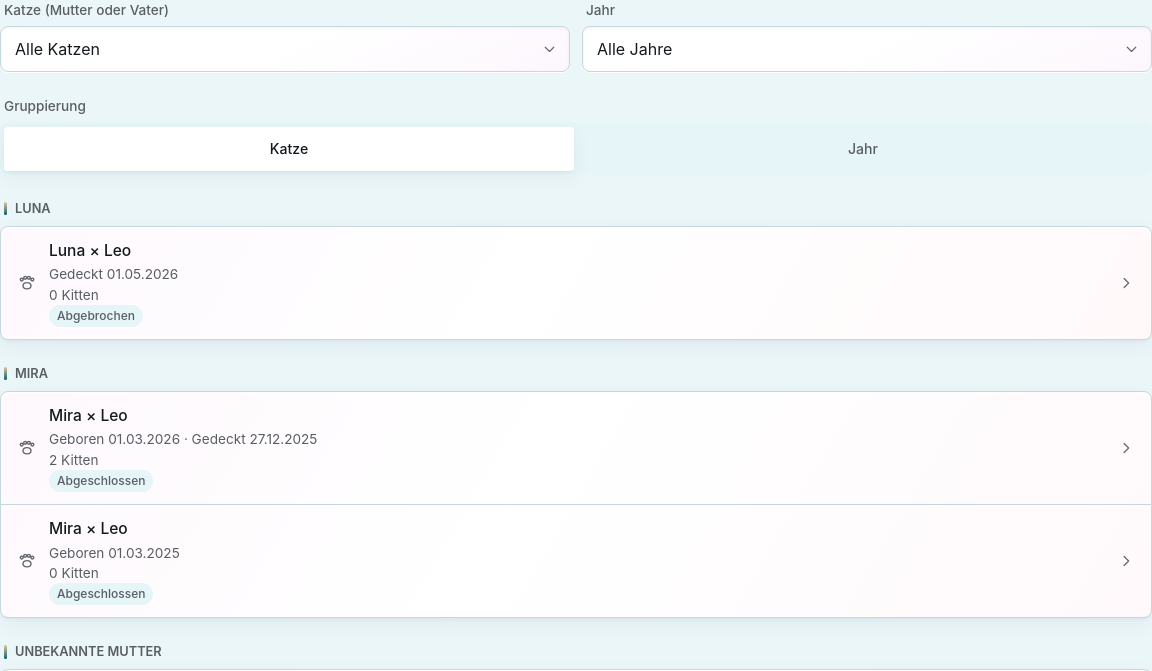
Test: LitterArchive › makes missing mothers and dates filterable and shows a no-results state
Select "Unbekannte Mutter" in the dropdown labelled "Katze (Mutter oder Vater)": (285, 49) x1=0 y1=26 x2=570 y2=72
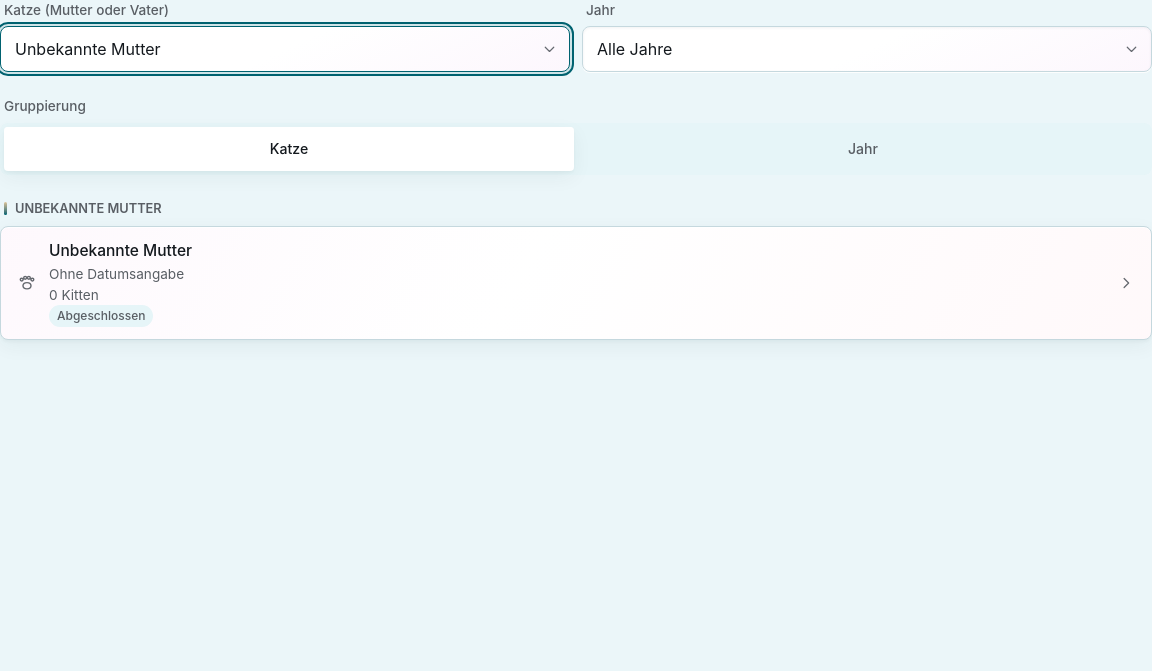
Select "Ohne Jahresangabe" in the dropdown labelled "Jahr": (867, 49) x1=582 y1=26 x2=1151 y2=72
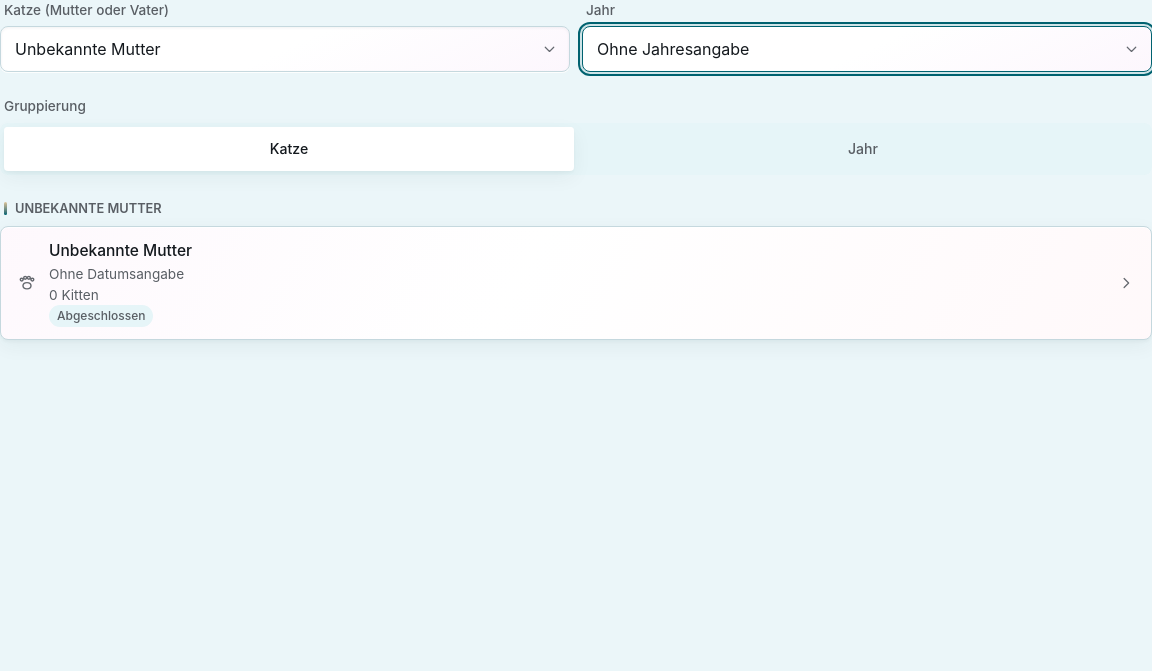
Expected: the button "Unbekannte Mutter Ohne Datumsangabe 0 Kitten Abgeschlossen" is shown, x1=1 y1=227 x2=1151 y2=339
Select "2026" in the dropdown labelled "Jahr": (867, 49) x1=582 y1=26 x2=1151 y2=72
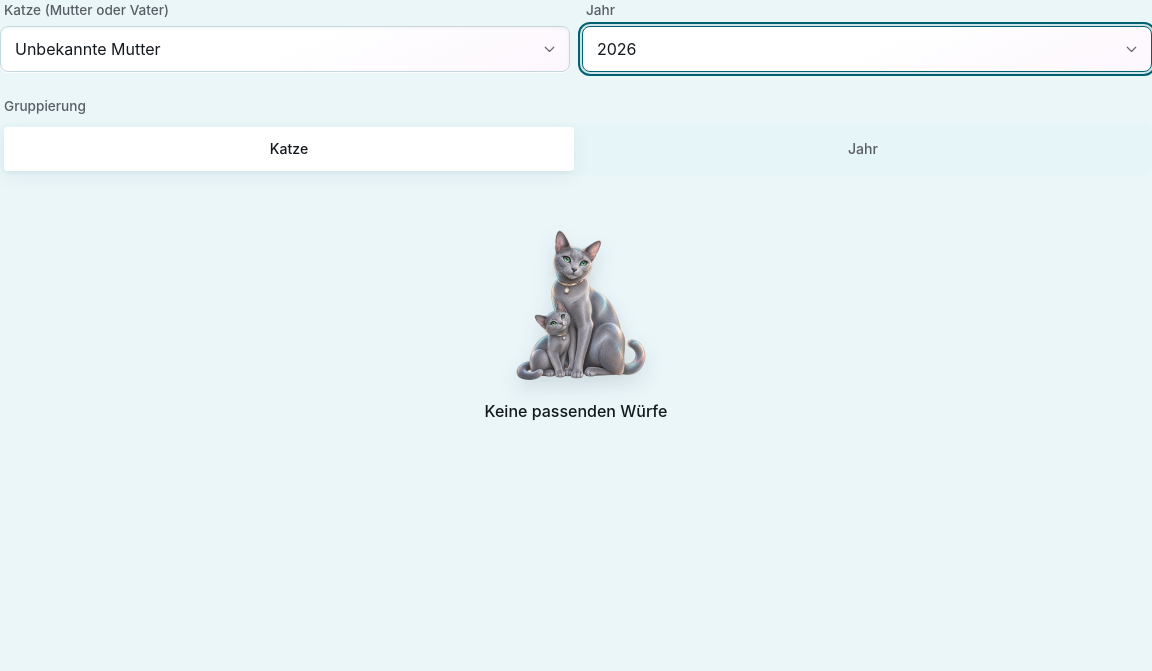
Now the button "Unbekannte Mutter Ohne Datumsangabe 0 Kitten Abgeschlossen" is gone
Now the text "Keine passenden Würfe" is shown, box x1=485 y1=399 x2=667 y2=423
